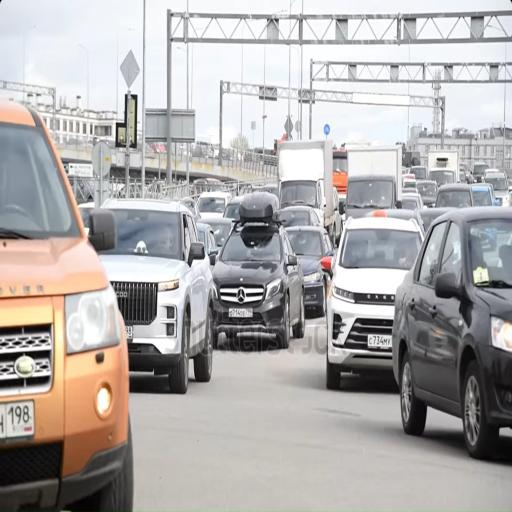License plates: (0, 401, 34, 439), (368, 335, 391, 348), (229, 308, 252, 318), (126, 326, 133, 342)
